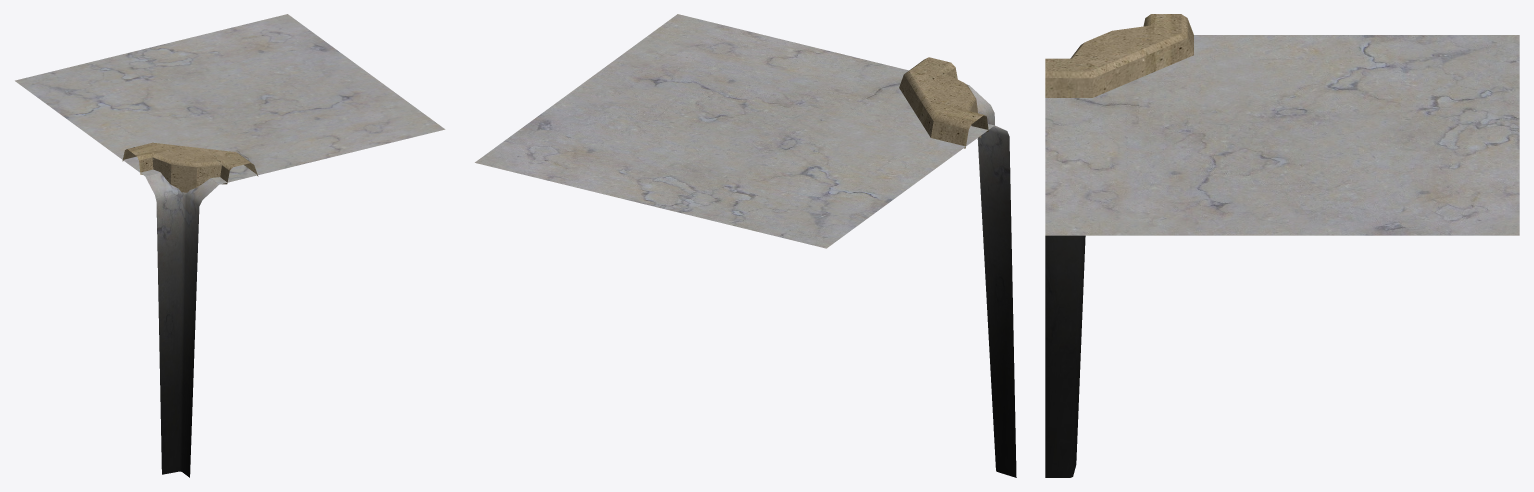
File: ground-tile-depth-3.fbx
3 views of the same model, side by side, from view 1: azimuth 30°, elevation 25°; view 2: azimuth 150°, elevation 25°; view 3: azimuth 270°, elevation 25° (orthographic). The views are drawn at different scales.
Visible parts, largest first — view 1: ground-tile-depth-3; view 2: ground-tile-depth-3; view 3: ground-tile-depth-3.
Boxes of the visible parts, x1,y1,x2,y2 form: ground-tile-depth-3: [15, 14, 445, 477]; ground-tile-depth-3: [475, 14, 1016, 477]; ground-tile-depth-3: [1045, 14, 1519, 477].
Bounding box in the file's own units: 200 × 210 × 200.
